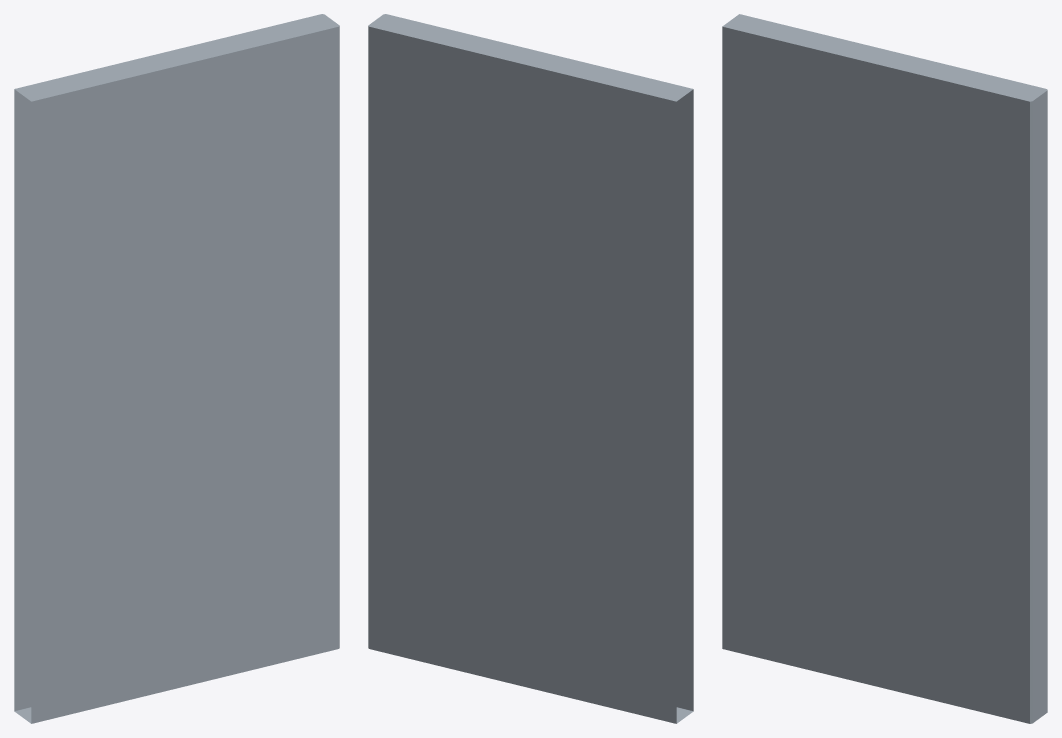
The model's file is Door_DarkMetal.gltf.
3 views of the same model, side by side, from view 1: azimuth 30°, elevation 25°; view 2: azimuth 150°, elevation 25°; view 3: azimuth 330°, elevation 25° (orthographic).
Visible parts, largest first — view 1: Door_DarkMetal; view 2: Door_DarkMetal; view 3: Door_DarkMetal.
Part boxes in pixels (x1,y1,x2,y2): Door_DarkMetal: (14, 14, 339, 723); Door_DarkMetal: (368, 14, 693, 723); Door_DarkMetal: (722, 14, 1047, 723).
Bounding box in the file's own units: 2.11 × 4.05 × 0.2032.
1 material, 1 textured.
